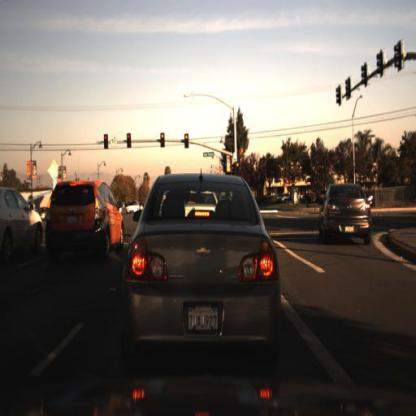car: (122, 172, 283, 364), (43, 178, 118, 266), (320, 180, 377, 250), (1, 189, 43, 260), (126, 198, 142, 215)
trafficLight-Red: (184, 130, 193, 149), (234, 157, 242, 172), (103, 133, 111, 145), (126, 131, 134, 143), (161, 132, 166, 150)
trafficLight-RedLeft: (126, 129, 134, 150), (103, 133, 110, 152)
